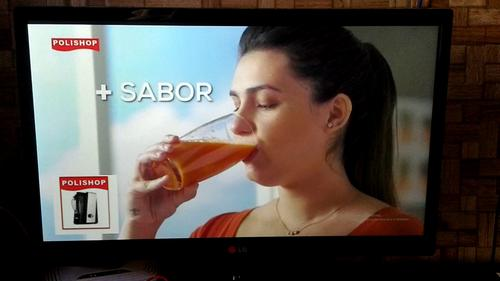Polishop #1: (52, 175, 119, 233)
